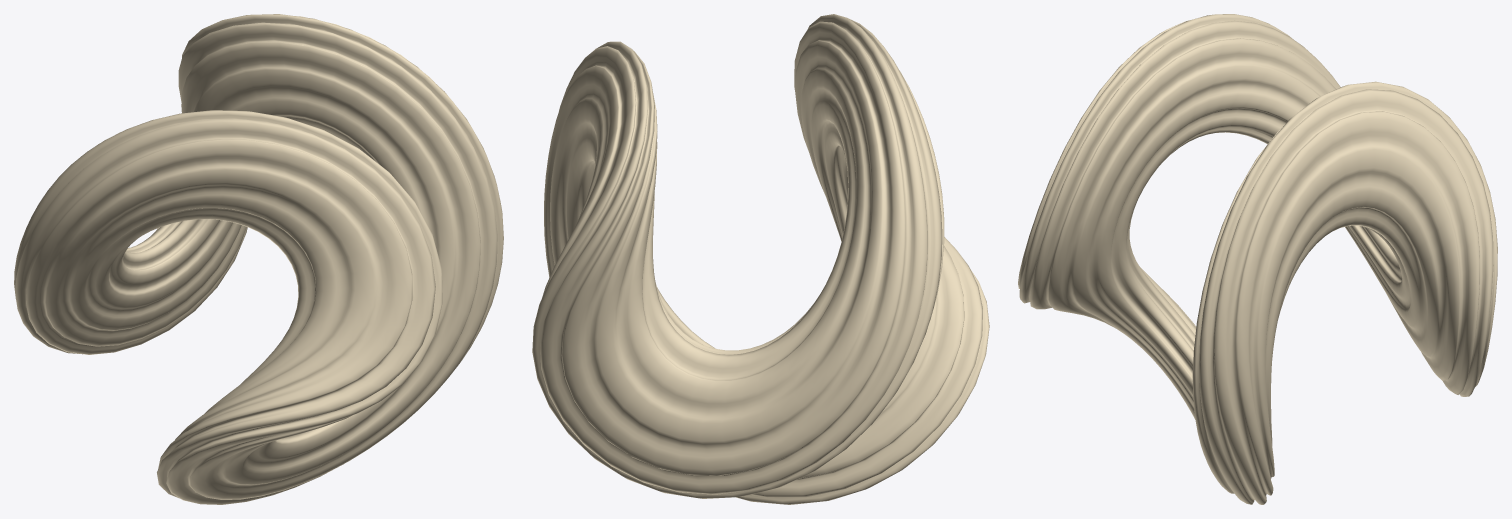
3 renders of one model, left to right at view 1: azimuth 30°, elevation 25°; view 2: azimuth 150°, elevation 25°; view 3: azimuth 270°, elevation 25°, orthographic. The views are drawn at different scales.
Parts seen in each view (by area): view 1: Torus009; view 2: Torus009; view 3: Torus009.
Boxes of the visible parts, box(x1,y1,x2,y2) form: Torus009: box(14, 14, 503, 504); Torus009: box(532, 14, 989, 504); Torus009: box(1018, 14, 1497, 504).
Bounding box in the file's own units: 88686 × 87041 × 88672.
